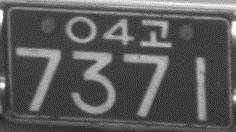0: (64, 14, 97, 44)
1: (184, 56, 220, 121)
3: (70, 49, 116, 115)
4: (102, 18, 134, 45)
7: (121, 52, 170, 117), (14, 45, 61, 112)
고: (139, 18, 171, 48)
